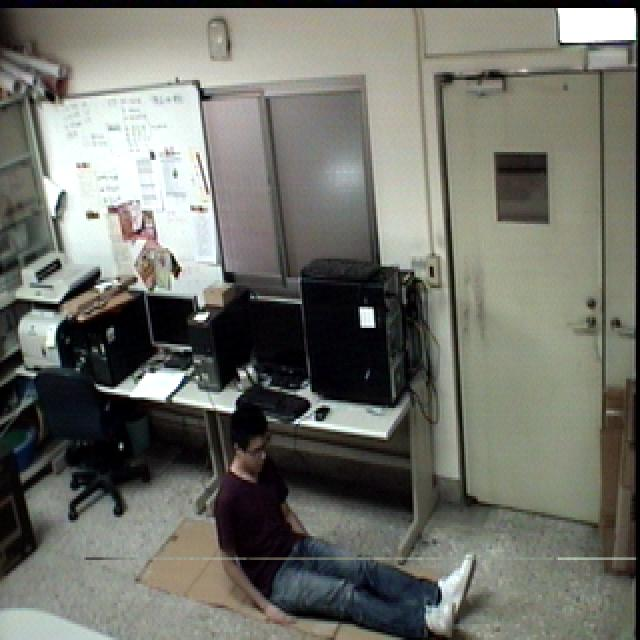sit: (212, 401, 483, 640)
